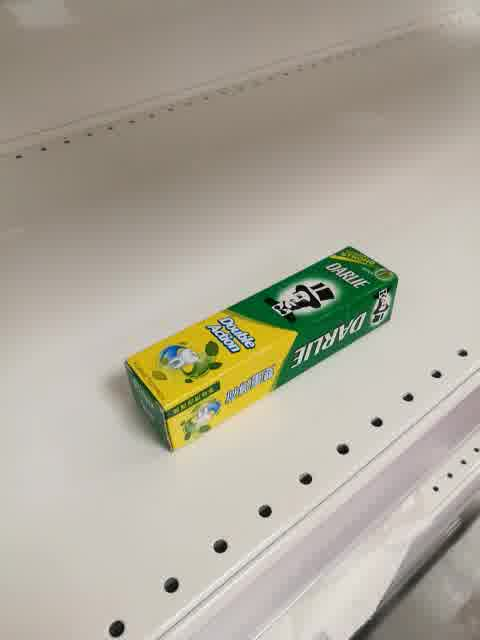toothpaste: (123, 241, 399, 454)
